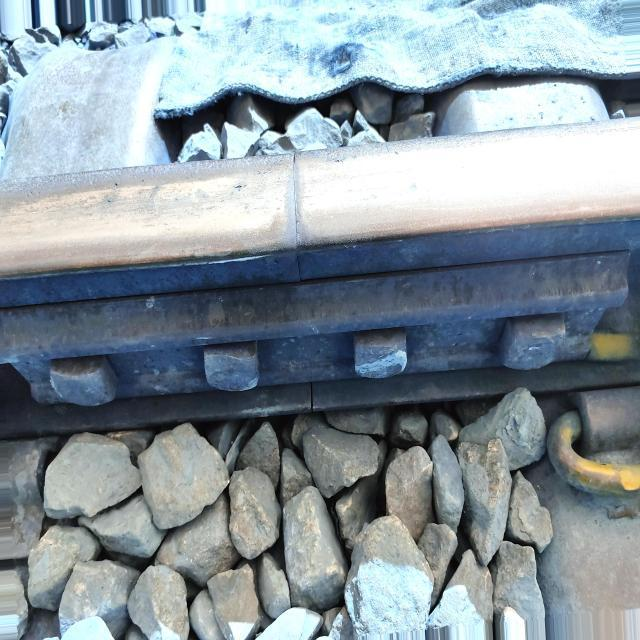Good Joint: (6, 256, 637, 404)
